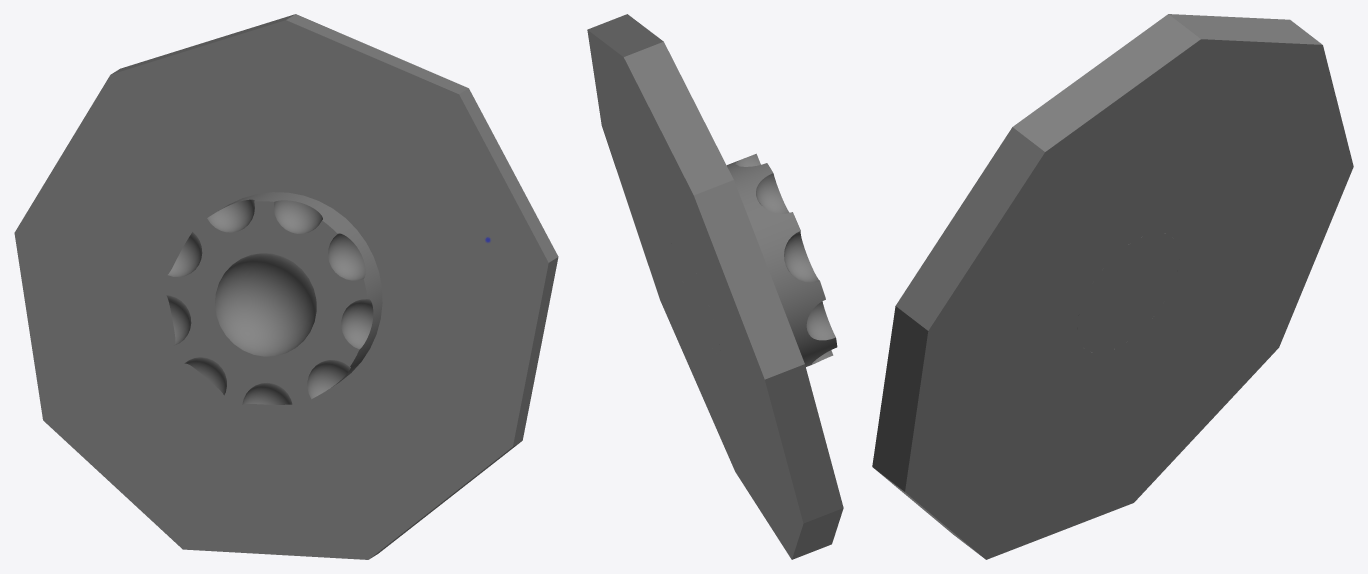
The model's file is outer.glb.
3 views of the same model, side by side, from view 1: azimuth 30°, elevation 25°; view 2: azimuth 150°, elevation 25°; view 3: azimuth 270°, elevation 25° (orthographic). The views are drawn at different scales.
Visible parts, largest first — view 1: node_id3; view 2: node_id3; view 3: node_id3.
Boxes of the visible parts, bbox=[...] form: node_id3: bbox=[14, 14, 558, 559]; node_id3: bbox=[587, 14, 843, 559]; node_id3: bbox=[872, 14, 1353, 559].
Size of the model in its own units: 0.4033 by 0.4996 by 0.3973.
Materials: 1 (1 with a texture image).
